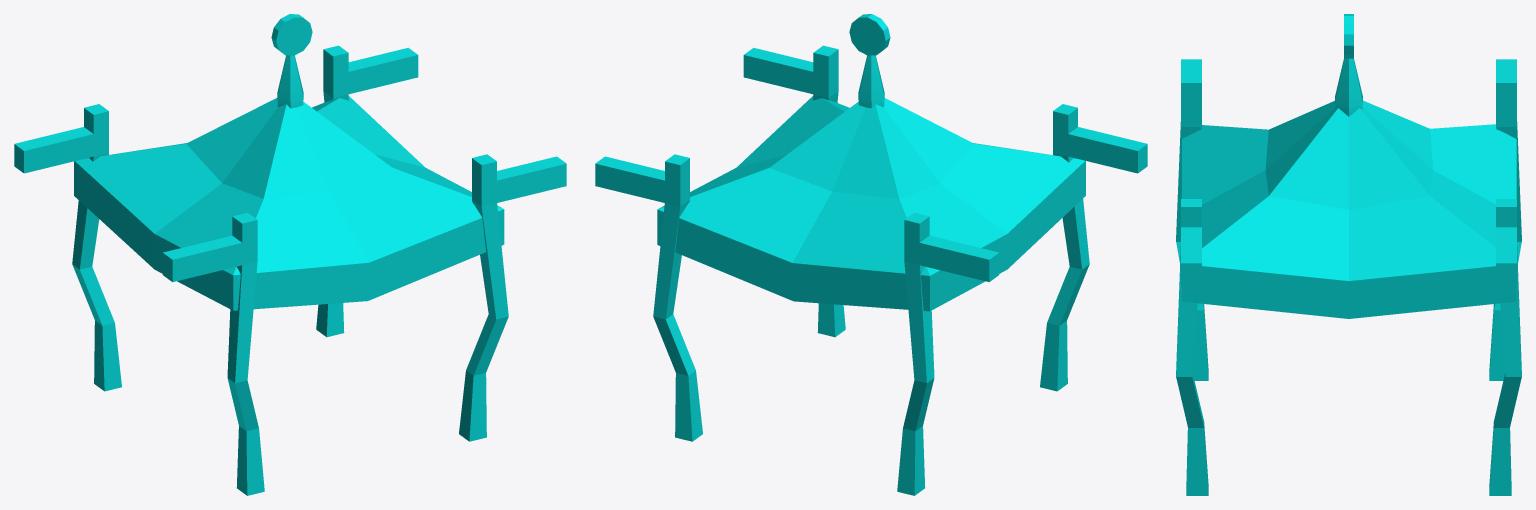
The model's file is SM_Prop_Tent_01_Collision.fbx.
3 views of the same model, side by side, from view 1: azimuth 30°, elevation 25°; view 2: azimuth 150°, elevation 25°; view 3: azimuth 270°, elevation 25° (orthographic). The views are drawn at different scales.
Parts seen in each view (by area): view 1: SM_Prop_Tent_01_Collision; view 2: SM_Prop_Tent_01_Collision; view 3: SM_Prop_Tent_01_Collision.
Boxes of the visible parts, box(x1,y1,x2,y2) form: SM_Prop_Tent_01_Collision: box(14, 14, 566, 495); SM_Prop_Tent_01_Collision: box(595, 14, 1147, 495); SM_Prop_Tent_01_Collision: box(1176, 14, 1521, 495).
Size of the model in its own units: 464 by 444 by 332.
